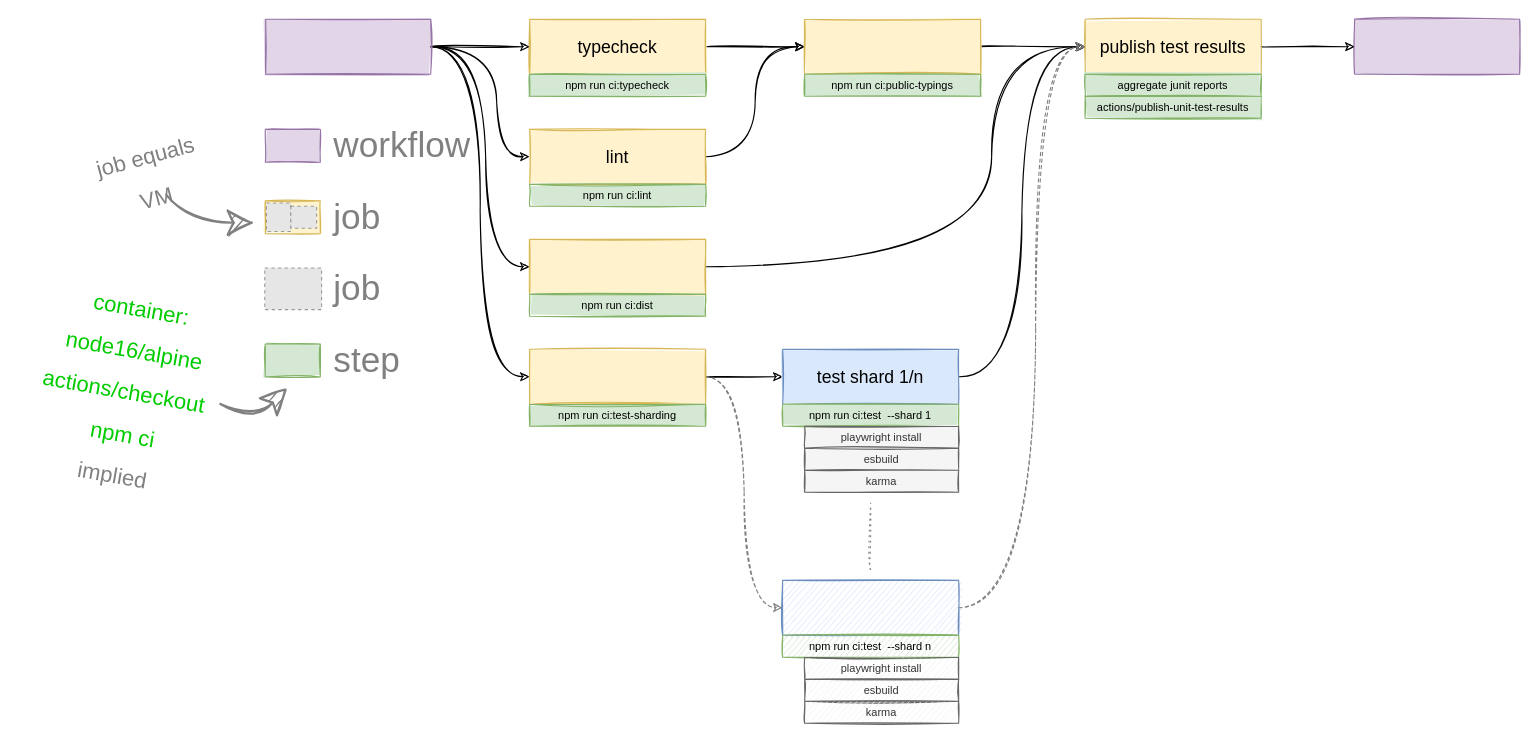
The diagram is 1539 pixels wide and 743 high, and some of its shapes have lost their labels. Grey dashed boxes stand in for pictures. Each missing label, with the centre of its shape:
"dist" belongs at point 617,266.
"end" belongs at point 1437,46.
"public typings" belongs at point 892,46.
"start" belongs at point 348,46.
"test shard n" belongs at point 870,607.
"test sharding" belongs at point 617,376.
